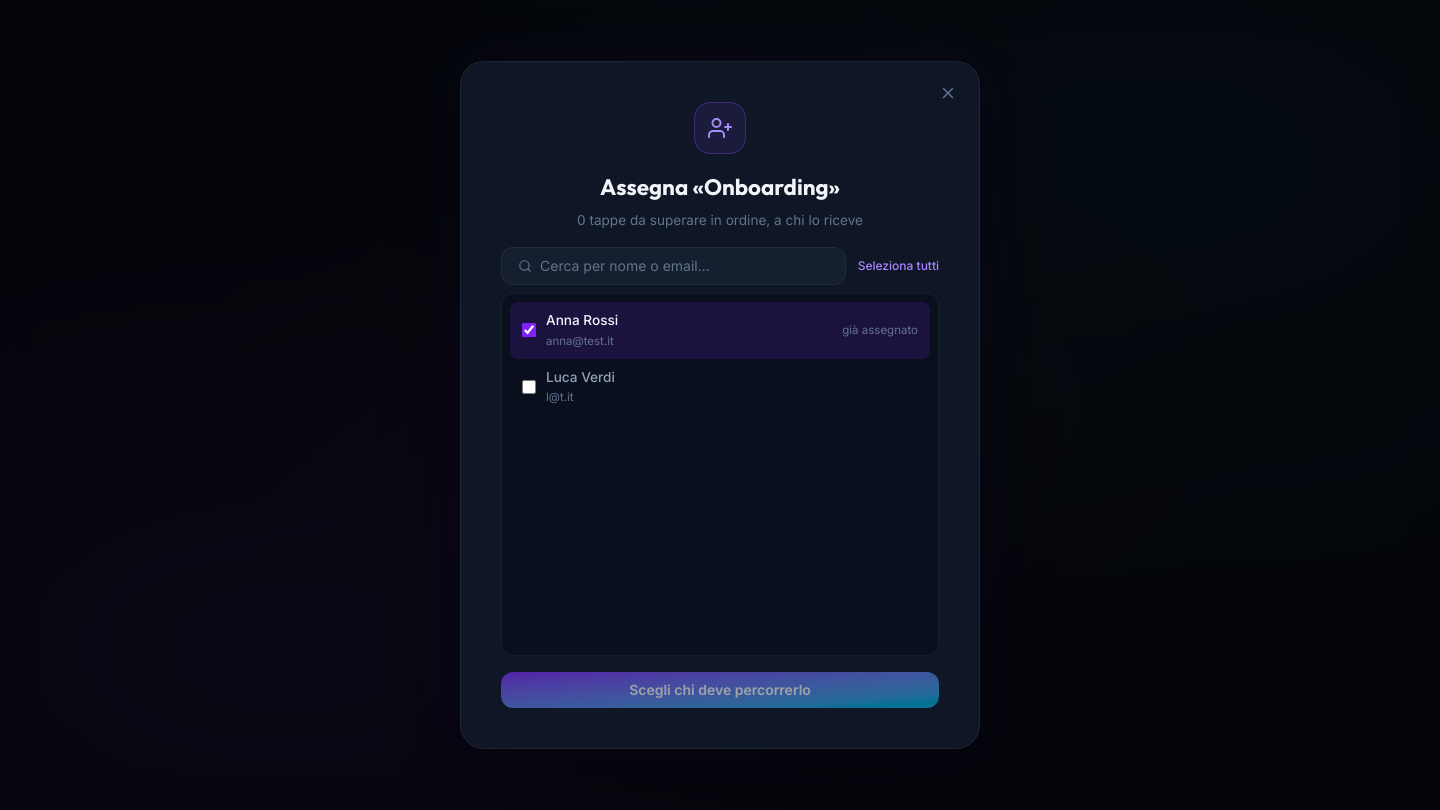
Scenario: AssignPathModal › il bottone di massa non ritira nessuno
Click the button "Seleziona tutti" at (898, 266), box [858,258,939,274]
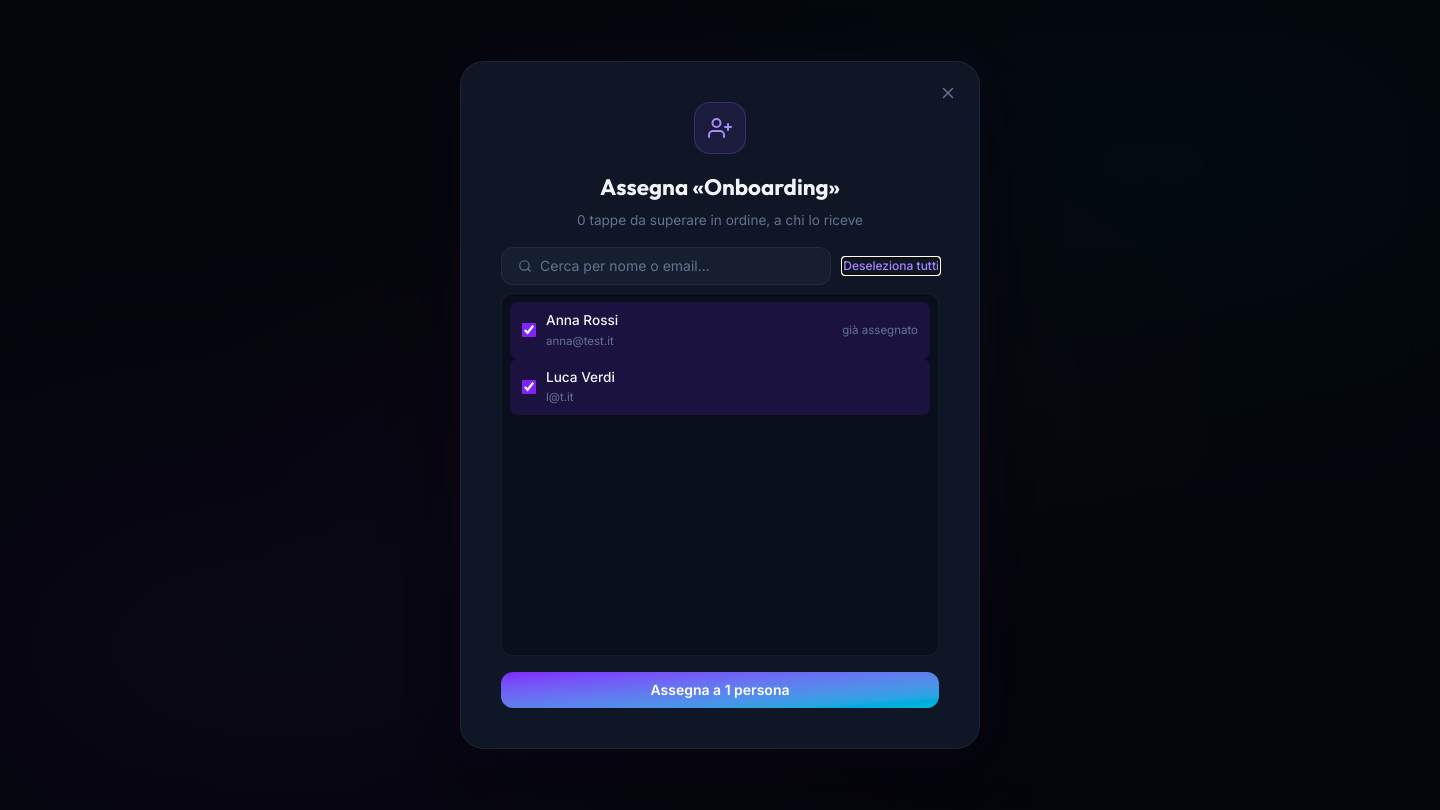
Click the button "Deseleziona tutti" at (891, 266), box [843,258,939,274]
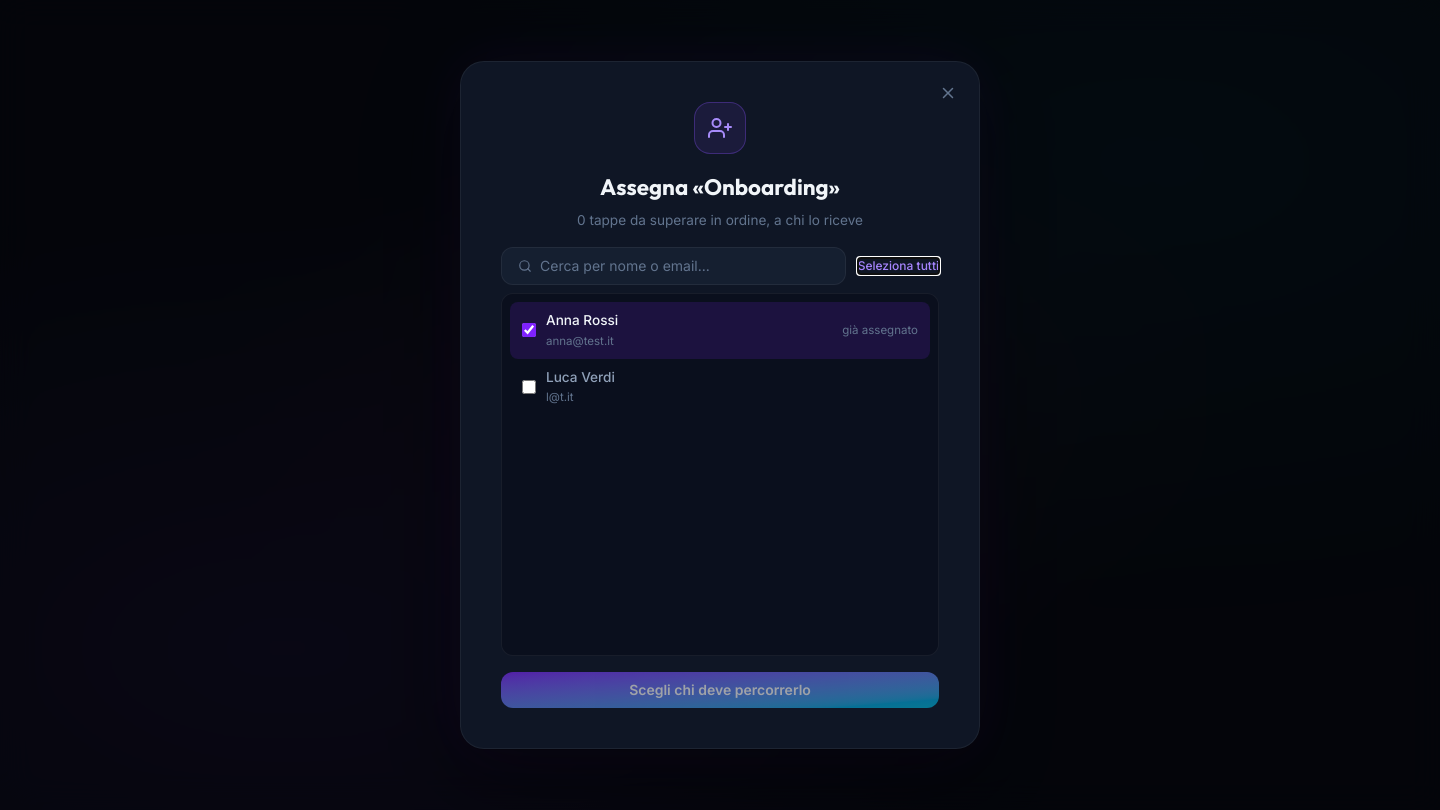
Expected: the checkbox labelled "Anna Rossi anna@test.it già assegnato" is checked, [522,323,536,337]
Now the checkbox labelled "Luca Verdi l@t.it" is not checked, box [522,380,536,394]
Now the button "Scegli chi deve percorrerlo" is disabled, box [501,672,939,708]
